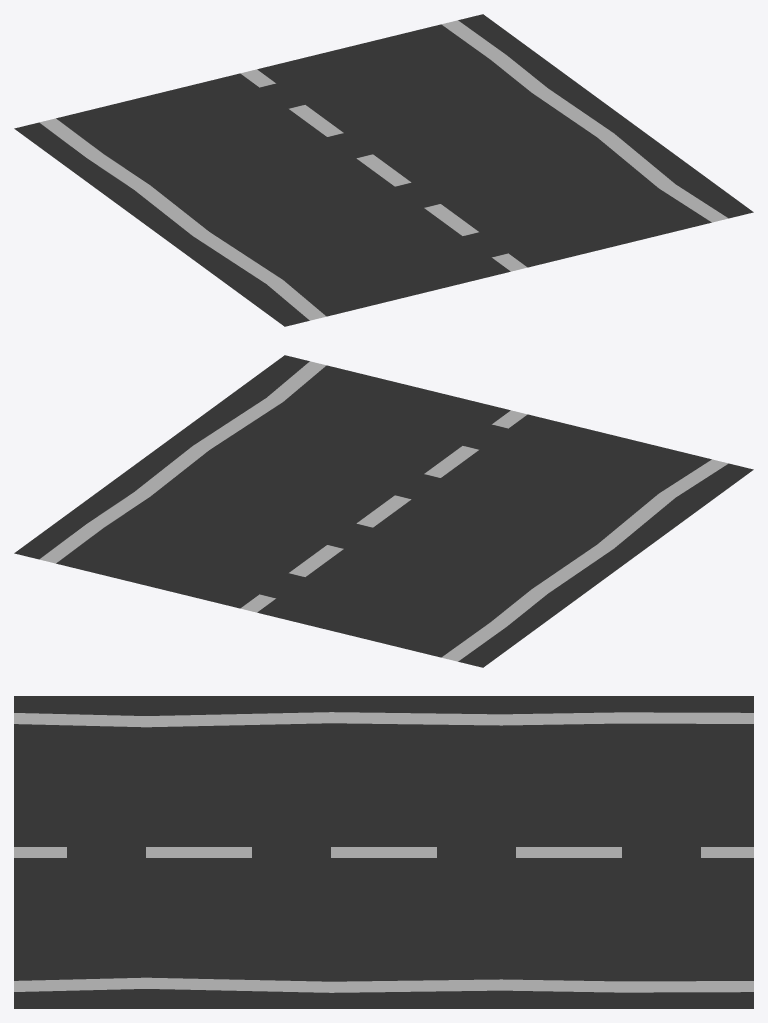
Rendered from M_CrossRoad700x700_01.fbx.
The picture shows the model from 3 angles, top to bottom: view 1: azimuth 30°, elevation 25°; view 2: azimuth 150°, elevation 25°; view 3: azimuth 270°, elevation 25°; orthographic projection. The views are drawn at different scales.
Visible parts, largest first — view 1: M_CrossRoad700x700_01; view 2: M_CrossRoad700x700_01; view 3: M_CrossRoad700x700_01.
Boxes of the visible parts, x1,y1,x2,y2 form: M_CrossRoad700x700_01: [14, 14, 753, 326]; M_CrossRoad700x700_01: [14, 355, 753, 667]; M_CrossRoad700x700_01: [14, 696, 753, 1008].
Bounding box in the file's own units: 700 × 700 × 7.35e-22.
